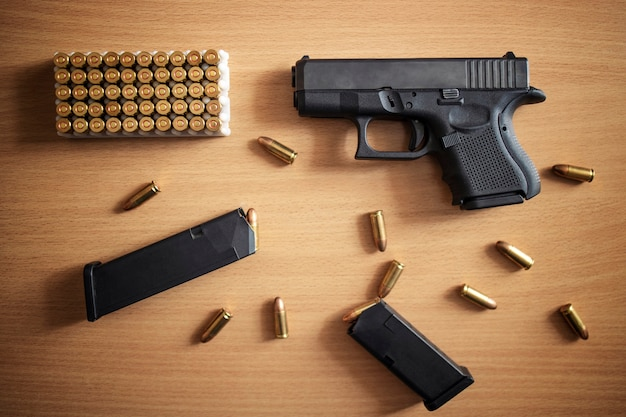gun: (290, 51, 549, 209)
